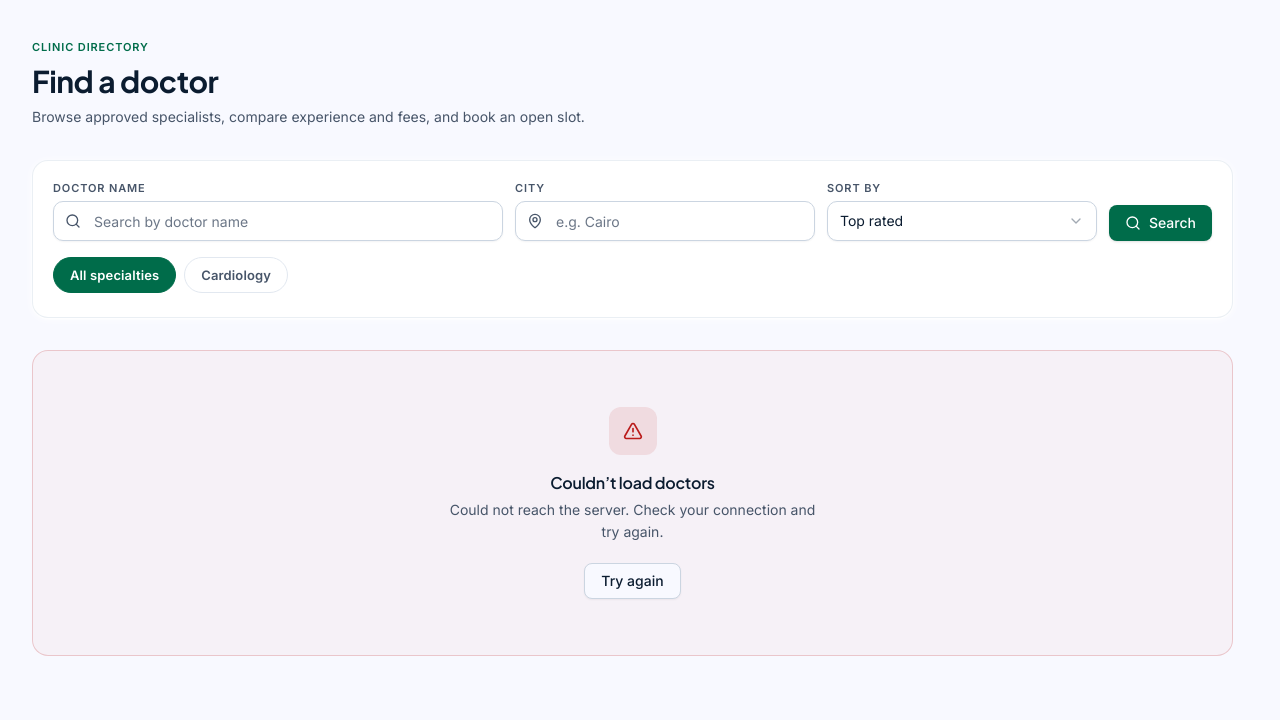
Scenario: DoctorsPage › shows an error with a working retry instead of "no doctors" when loading fails
Expected: the heading "Couldn’t load doctors" is shown, [550, 471, 715, 495]
Click the button "Try again".
click(632, 581)  # box [584, 563, 681, 599]
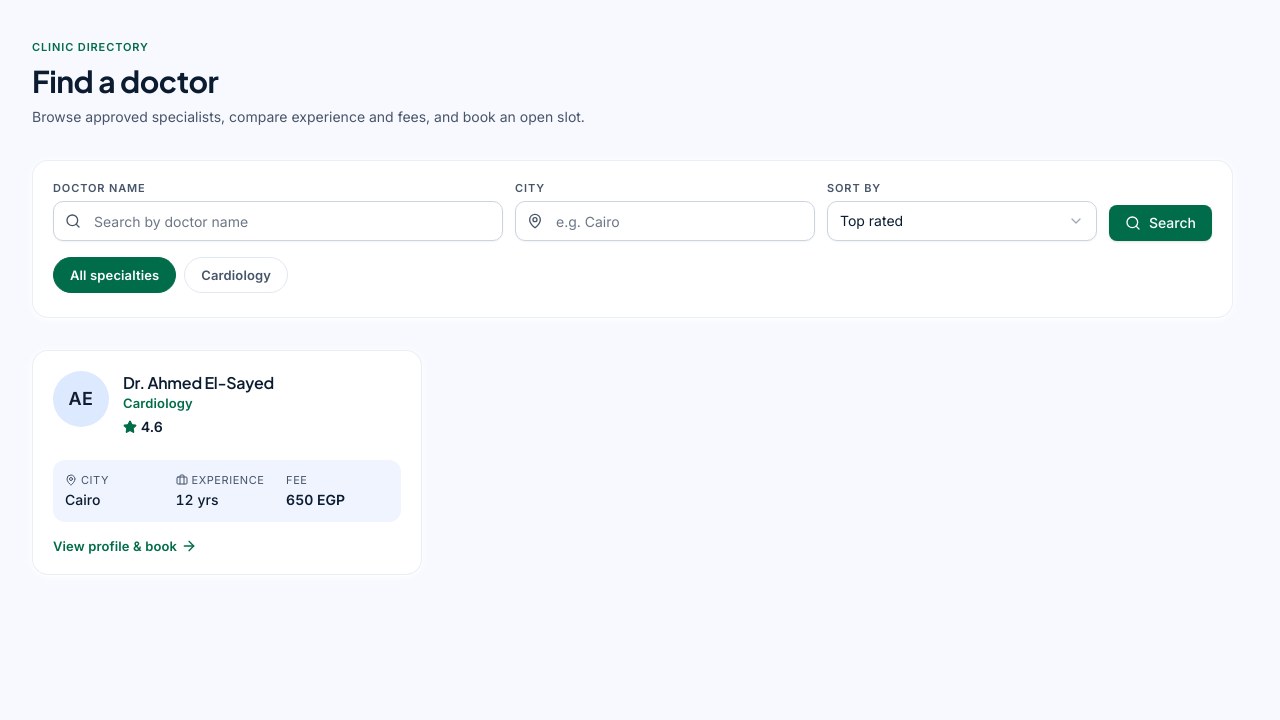
Now the heading "Dr. Ahmed El-Sayed" is shown, box [123, 372, 274, 393]
